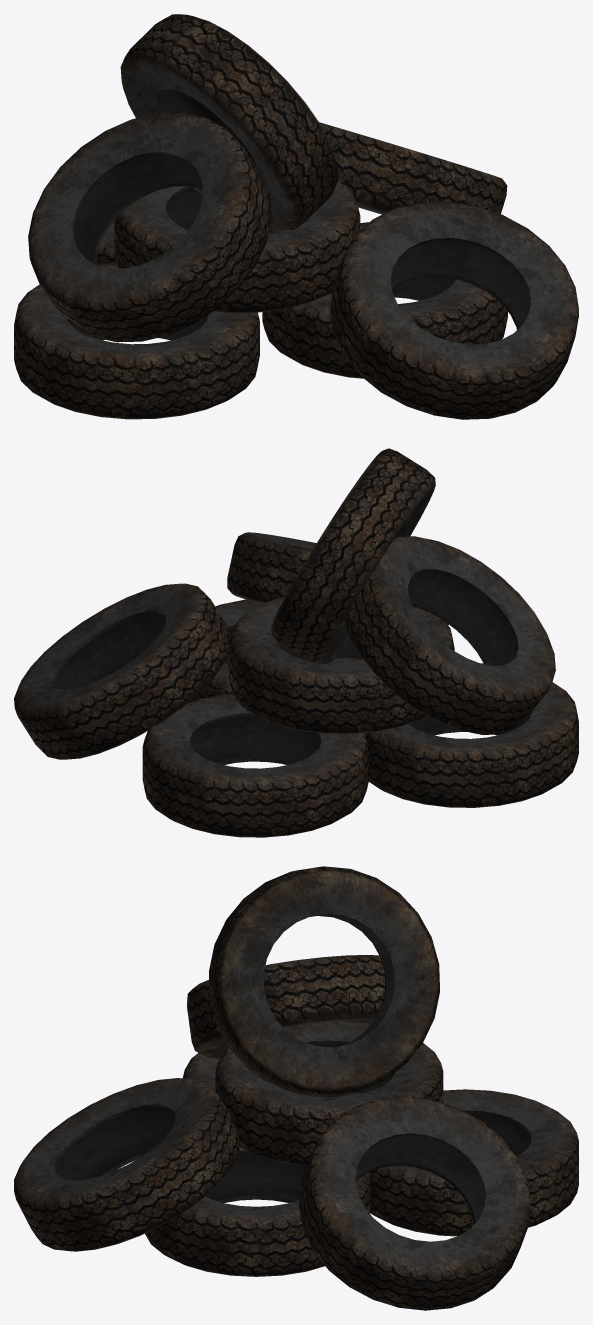
Rendered from Tire.FBX.
3 views of the same model, one above another, from view 1: azimuth 30°, elevation 25°; view 2: azimuth 150°, elevation 25°; view 3: azimuth 270°, elevation 25° (orthographic). The views are drawn at different scales.
Parts seen in each view (by area): view 1: Cylinder003, Cylinder008, Cylinder009, Cylinder007, Cylinder006, Cylinder001, Cylinder005, Cylinder004; view 2: Cylinder008, Cylinder005, Cylinder004, Cylinder007, Cylinder009, Cylinder006, Cylinder003, Cylinder001; view 3: Cylinder005, Cylinder009, Cylinder003, Cylinder004, Cylinder001, Cylinder006, Cylinder008, Cylinder007.
Boxes of the visible parts, x1,y1,x2,y2 form: Cylinder003: (330, 201, 578, 419); Cylinder008: (28, 112, 271, 342); Cylinder009: (120, 14, 338, 232); Cylinder007: (14, 262, 259, 419); Cylinder006: (114, 181, 360, 313); Cylinder001: (262, 222, 507, 378); Cylinder005: (319, 122, 507, 214); Cylinder004: (97, 221, 270, 264); Cylinder008: (344, 536, 555, 734); Cylinder005: (14, 583, 230, 759); Cylinder004: (142, 694, 368, 837); Cylinder007: (365, 663, 578, 807); Cylinder009: (271, 448, 435, 663); Cylinder006: (228, 595, 454, 733); Cylinder003: (227, 532, 448, 624); Cylinder001: (188, 599, 365, 702); Cylinder005: (299, 1096, 530, 1310); Cylinder009: (209, 866, 439, 1096); Cylinder003: (14, 1078, 239, 1251); Cylinder004: (368, 1089, 578, 1236); Cylinder001: (145, 1147, 370, 1276); Cylinder006: (215, 1020, 443, 1165); Cylinder008: (187, 955, 385, 1059); Cylinder007: (183, 1053, 360, 1096).
Size of the model in its own units: 268 by 161 by 270.
